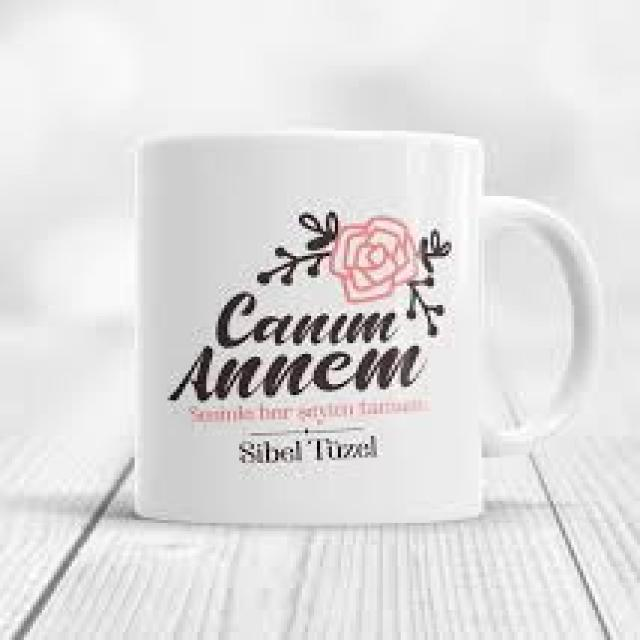taza: (134, 129, 604, 523)
